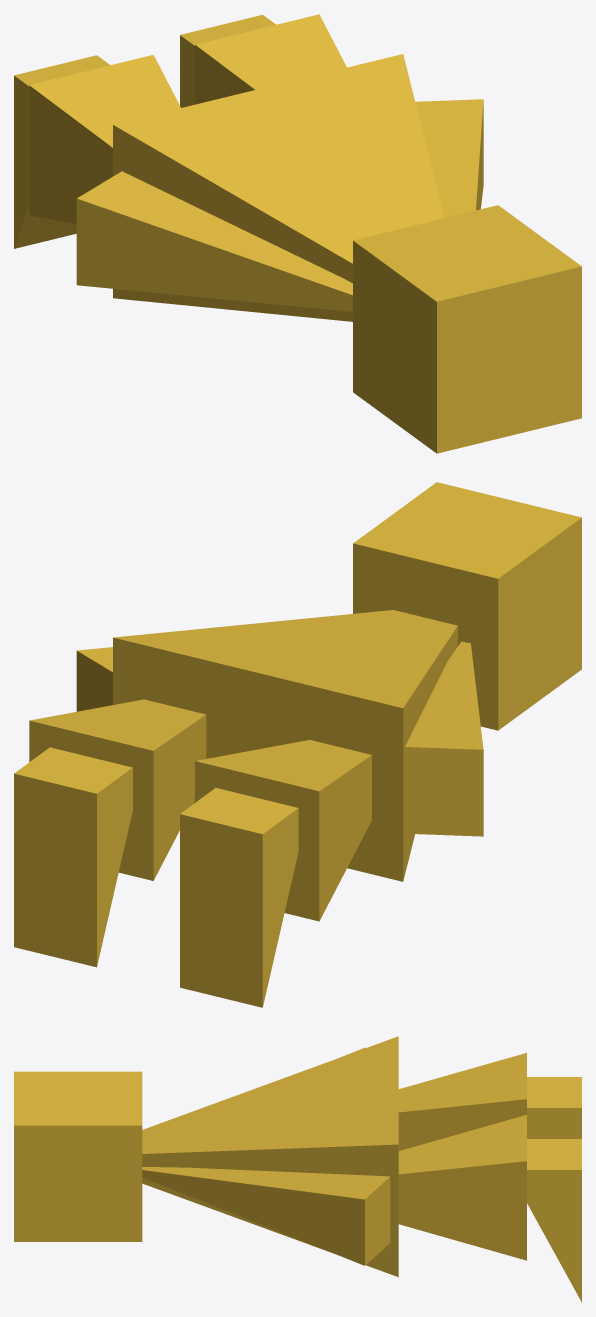
Rendered from statue.obj.
The picture shows the model from 3 angles, top to bottom: view 1: azimuth 30°, elevation 25°; view 2: azimuth 150°, elevation 25°; view 3: azimuth 270°, elevation 25°; orthographic projection. The views are drawn at different scales.
Visible parts, largest first — view 1: head, body, arm, leg, shoe; view 2: shoe, body, head, hidden, leg, arm; view 3: body, leg, head, arm, shoe, hidden.
Boxes of the visible parts, x1,y1,x2,y2 form: head: (353, 205, 581, 453); body: (113, 54, 444, 321); arm: (76, 99, 483, 311); leg: (29, 14, 346, 223); shoe: (14, 14, 275, 248); shoe: (14, 747, 298, 1007); body: (113, 610, 457, 881); head: (353, 482, 581, 730); hidden: (29, 651, 483, 921); leg: (30, 699, 371, 920); arm: (77, 641, 483, 749); body: (142, 1036, 398, 1277); leg: (398, 1053, 526, 1260); head: (14, 1071, 142, 1241); arm: (142, 1047, 389, 1265); shoe: (527, 1077, 581, 1302); hidden: (365, 1177, 390, 1265).
Size of the model in its own units: 1.52 by 0.7742 by 2.4.
